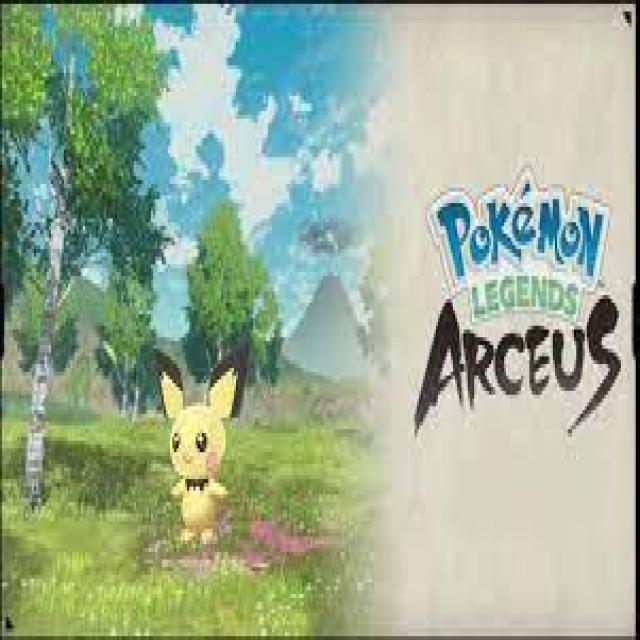pichu: (160, 344, 252, 586)
